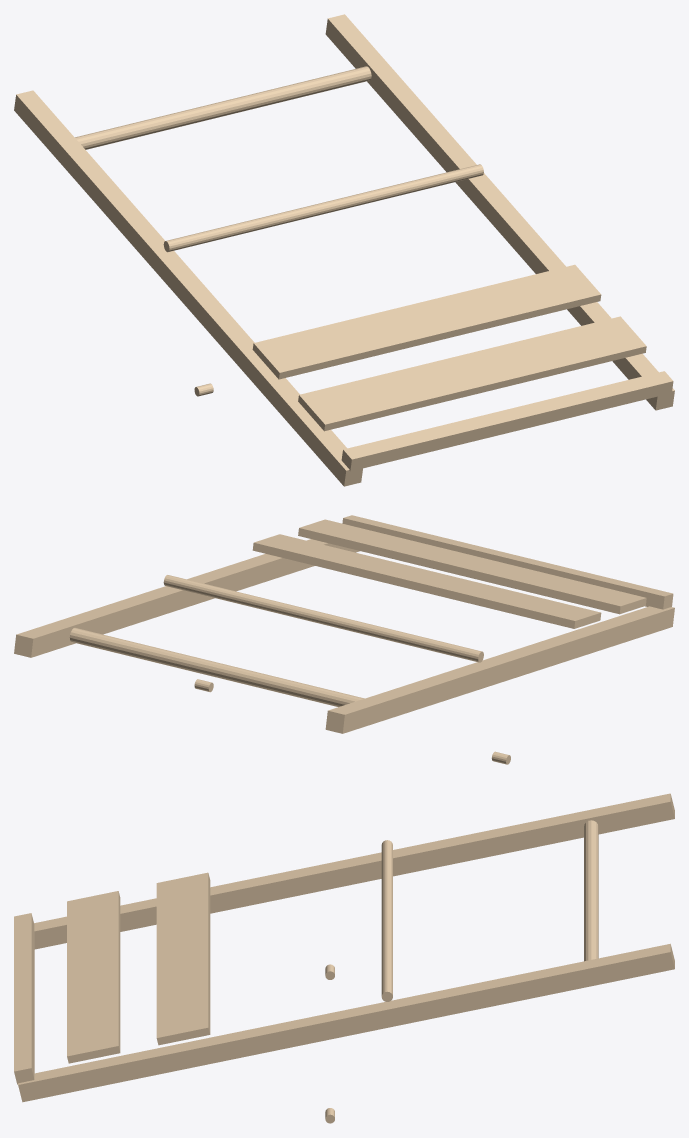
Rendered from main_frame.glb.
3 views of the same model, one above another, from view 1: azimuth 30°, elevation 25°; view 2: azimuth 150°, elevation 25°; view 3: azimuth 270°, elevation 25° (orthographic).
Visible parts, largest first — view 1: main_frame.001; view 2: main_frame.001; view 3: main_frame.001.
Part boxes in pixels (left/top/right/bottom): main_frame.001: left=14, top=14, right=674, bottom=486; main_frame.001: left=14, top=515, right=674, bottom=764; main_frame.001: left=14, top=793, right=674, bottom=1123.
Size of the model in its own units: 0.46 by 0.2377 by 0.8103.
